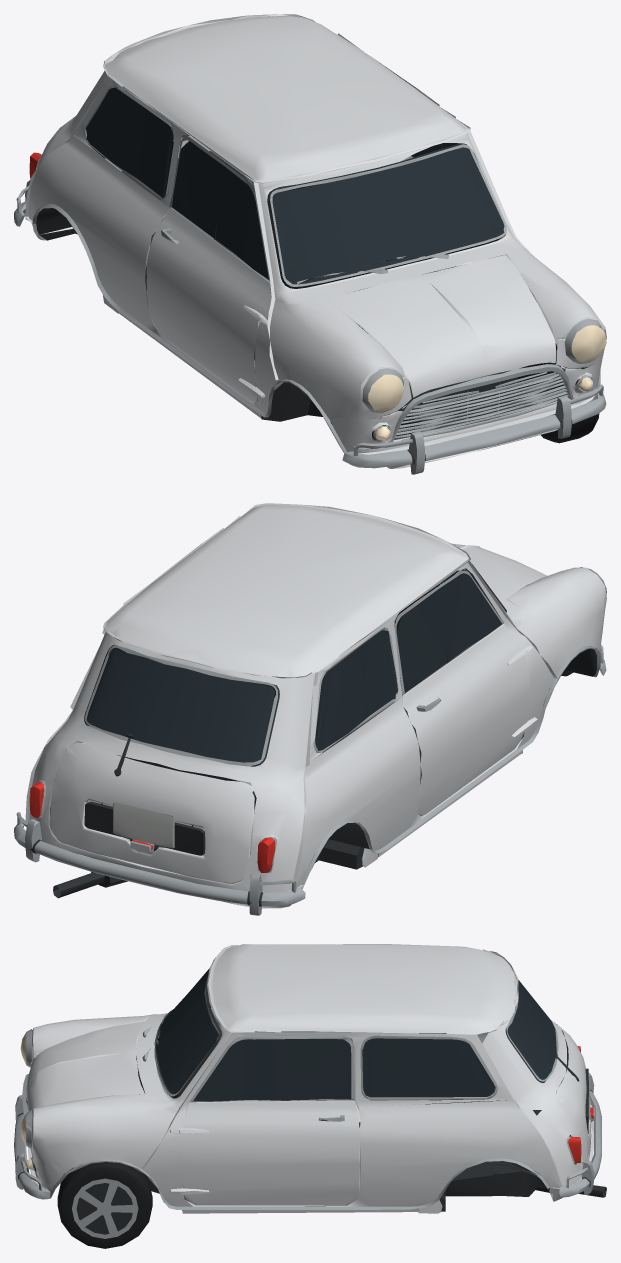
File: classic-mini.glb
3 renders of one model, top to bottom at view 1: azimuth 30°, elevation 25°; view 2: azimuth 150°, elevation 25°; view 3: azimuth 270°, elevation 25°, orthographic. The views are drawn at different scales.
Parts seen in each view (by area): view 1: Car body, Car glazing, Car wheel discs, Car trim, Car headlamps, Wheel tyre; view 2: Car body, Car glazing, Car wheel discs, Car trim, Car plates, Car tail lamps; view 3: Car body, Car glazing, Car wheel discs, Car trim, Wheel tyre, Wheel rim, Wheel well.
Boxes of the visible parts, bbox=[...] form: Car body: bbox=[25, 14, 606, 468]; Car glazing: bbox=[86, 88, 504, 283]; Car wheel discs: bbox=[14, 85, 606, 474]; Car trim: bbox=[36, 134, 592, 468]; Car headlamps: bbox=[368, 325, 606, 440]; Wheel tyre: bbox=[541, 414, 599, 443]; Car body: bbox=[25, 503, 606, 908]; Car glazing: bbox=[86, 568, 501, 762]; Car wheel discs: bbox=[14, 567, 606, 915]; Car trim: bbox=[25, 564, 596, 906]; Car plates: bbox=[113, 802, 174, 848]; Car tail lamps: bbox=[29, 781, 275, 872]; Car body: bbox=[26, 944, 593, 1213]; Car glazing: bbox=[155, 968, 556, 1101]; Car wheel discs: bbox=[14, 976, 601, 1209]; Car trim: bbox=[17, 978, 606, 1211]; Wheel tyre: bbox=[57, 1162, 152, 1248]; Wheel rim: bbox=[72, 1178, 138, 1238]; Wheel well: bbox=[74, 1178, 135, 1234].
Bounding box in the file's own units: 1.4 × 1.26 × 3.05.
